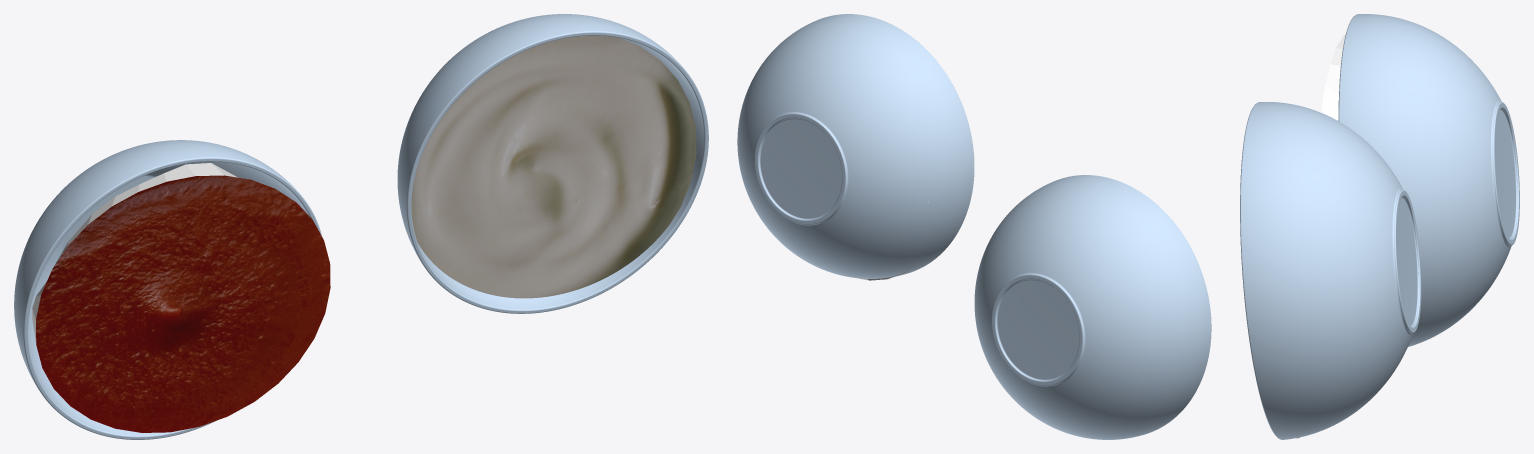
The model's file is sauces.glb.
3 renders of one model, left to right at view 1: azimuth 30°, elevation 25°; view 2: azimuth 150°, elevation 25°; view 3: azimuth 270°, elevation 25°, orthographic. The views are drawn at different scales.
Parts seen in each view (by area): view 1: coffee.003, coffee.002, Kugel.001, Kugel.002; view 2: Kugel.002, Kugel.001; view 3: Kugel.001, Kugel.002, coffee.003.
Part boxes in pixels (x1,y1,x2,y2): coffee.003: [32, 163, 330, 432]; coffee.002: [411, 35, 696, 298]; Kugel.001: [397, 14, 708, 313]; Kugel.002: [14, 140, 322, 439]; Kugel.002: [974, 175, 1211, 439]; Kugel.001: [737, 14, 974, 278]; Kugel.001: [1240, 102, 1421, 439]; Kugel.002: [1338, 14, 1519, 346]; coffee.003: [1321, 34, 1345, 120].
Bounding box in the file's own units: 7.34 × 4.25 × 2.78.
Materials: 4 (2 with a texture image).
